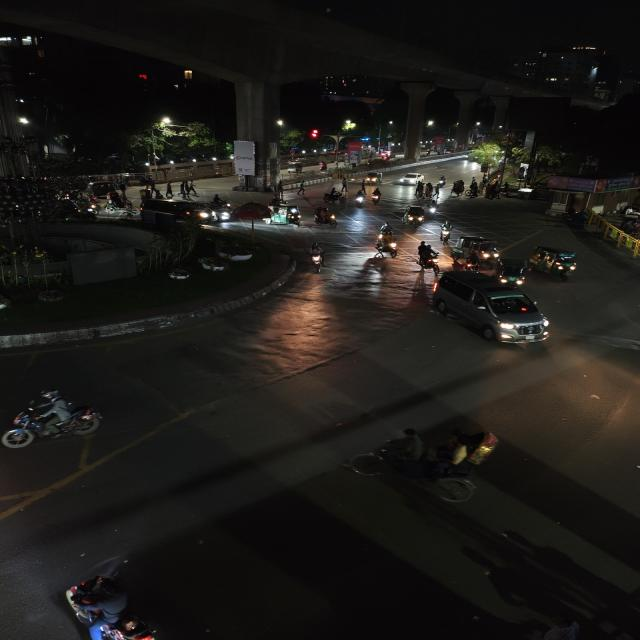car: (425, 270, 556, 350), (140, 198, 226, 226), (397, 170, 426, 187)
cng: (529, 244, 581, 280), (454, 233, 506, 269), (497, 258, 530, 286), (270, 202, 303, 225), (402, 204, 429, 232), (361, 170, 385, 186)
motorcycle: (0, 389, 106, 455), (61, 571, 162, 640), (410, 240, 443, 277), (372, 232, 400, 260), (304, 243, 328, 274), (353, 189, 367, 207), (370, 188, 383, 205)
pedestrian: (468, 177, 480, 197), (422, 181, 434, 199), (177, 180, 189, 197), (187, 178, 197, 195), (437, 175, 447, 188), (360, 181, 370, 194), (300, 181, 306, 195), (342, 177, 348, 190)
rickshaw: (354, 422, 506, 504), (230, 200, 271, 224), (322, 188, 346, 206), (450, 179, 466, 199)
